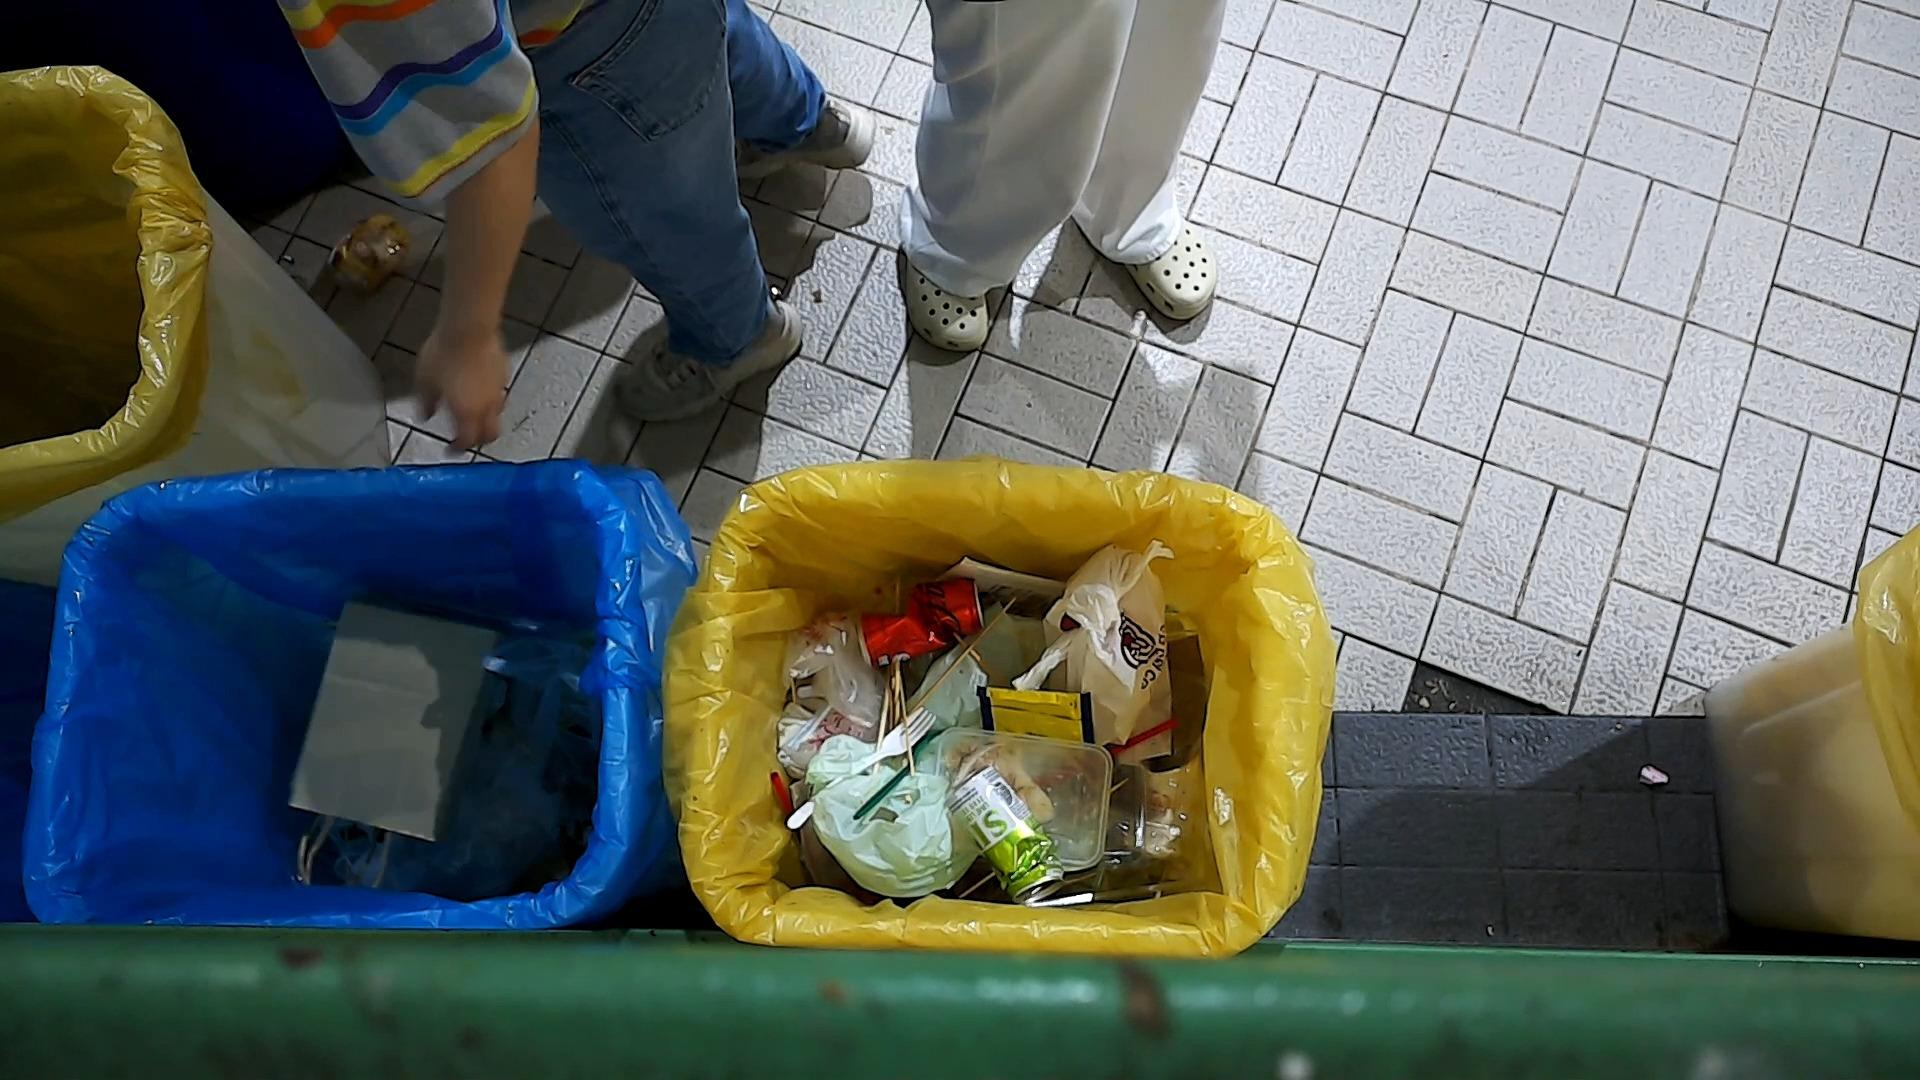can: (943, 762, 1067, 906), (853, 572, 989, 673)
dirty food container: (931, 721, 1116, 874)
filled plastic bag: (1007, 535, 1179, 761), (795, 731, 980, 902)
paper bag: (281, 591, 502, 895)
plastic bag: (344, 676, 575, 906), (775, 597, 885, 748)
plastic cutlery: (785, 703, 944, 833), (849, 727, 949, 822)
snack packaging: (972, 683, 1097, 745)
sticks: (907, 593, 1018, 716), (899, 673, 918, 783)
straw: (1108, 715, 1182, 760)
